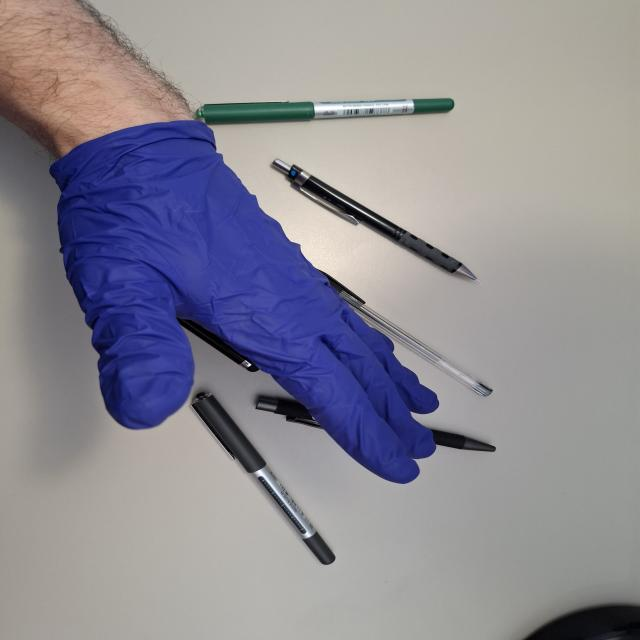glove_on: (46, 115, 444, 488)
